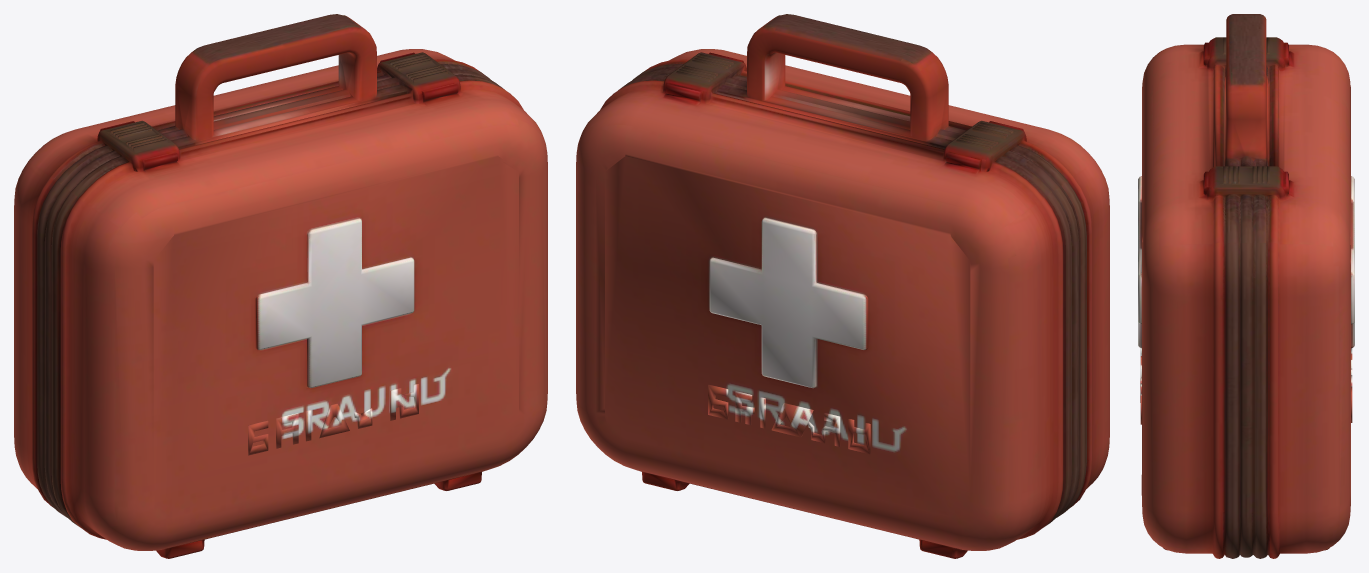
The model's file is firstaidkit_realistic_style_4b94e172_v2.glb.
3 renders of one model, left to right at view 1: azimuth 30°, elevation 25°; view 2: azimuth 150°, elevation 25°; view 3: azimuth 270°, elevation 25°, orthographic. The views are drawn at different scales.
Visible parts, largest first — view 1: mesh_input; view 2: mesh_input; view 3: mesh_input.
Boxes of the visible parts, x1,y1,x2,y2 form: mesh_input: (14,14,547,558); mesh_input: (576,14,1109,558); mesh_input: (1138,14,1354,558).
Bounding box in the file's own units: 1.9 × 1.76 × 0.8033.
Materials: 1 (1 with a texture image).
